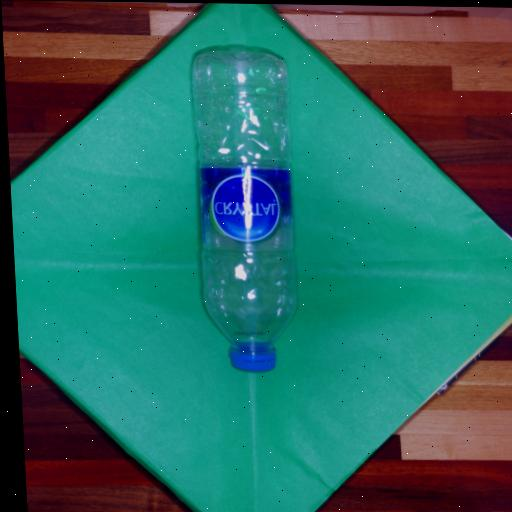bottle: (192, 50, 295, 371)
